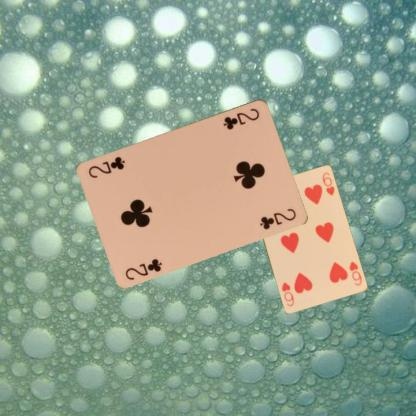2c: (122, 256, 164, 282), (221, 105, 261, 131)
6h: (347, 259, 363, 286)
